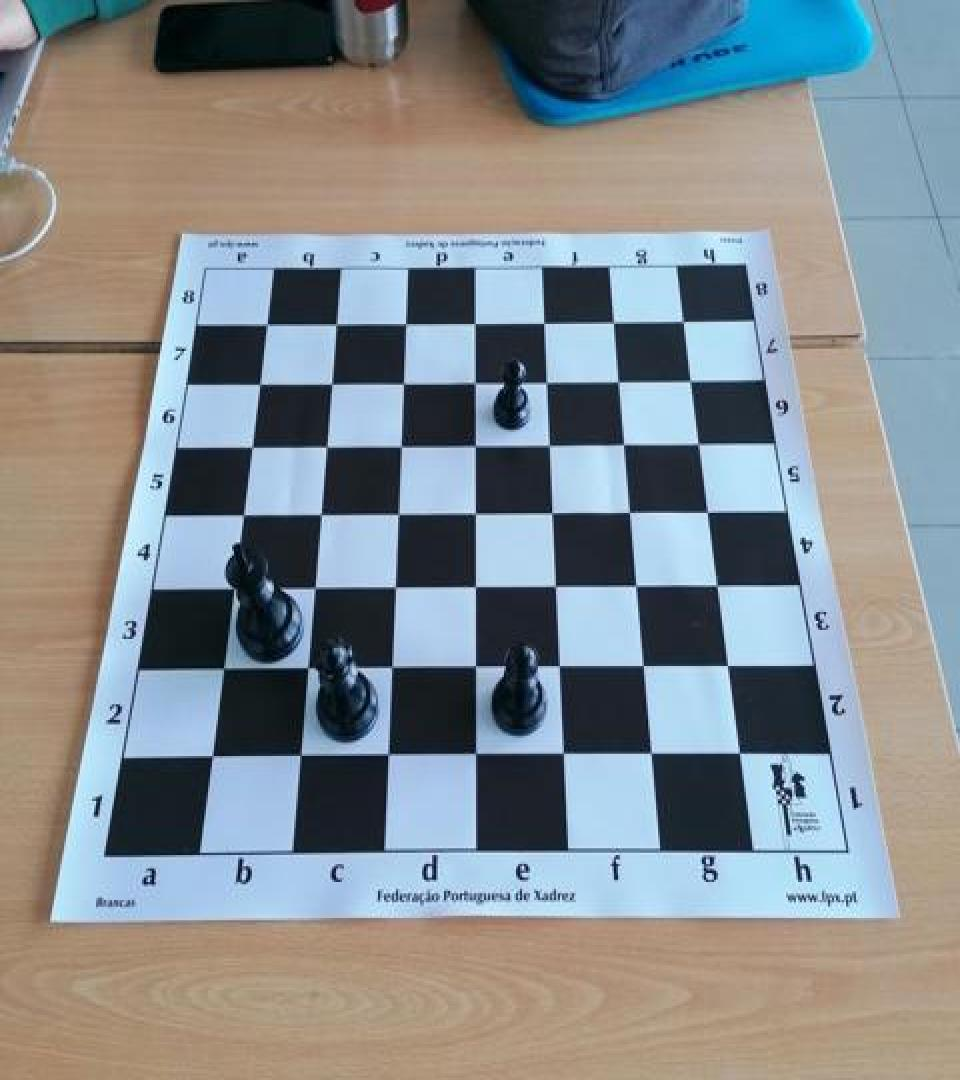xcorner: (252, 305, 282, 339), (245, 364, 275, 398), (237, 428, 267, 462), (228, 496, 258, 530), (219, 570, 249, 604), (208, 651, 238, 685), (197, 740, 227, 774), (322, 305, 352, 339), (317, 364, 347, 398), (311, 428, 341, 462), (306, 496, 336, 530), (300, 570, 330, 604), (293, 651, 323, 685), (286, 739, 316, 773), (391, 305, 421, 339), (389, 364, 419, 398), (386, 428, 416, 462), (383, 496, 413, 530), (381, 570, 411, 604), (377, 651, 407, 685), (374, 739, 404, 773), (460, 305, 490, 339), (460, 364, 490, 398), (461, 428, 491, 462), (461, 496, 491, 530), (461, 570, 491, 604), (462, 650, 492, 684), (462, 738, 492, 772), (529, 305, 559, 339), (532, 364, 562, 398), (535, 428, 565, 462), (538, 496, 568, 530), (542, 569, 572, 603), (546, 650, 576, 684), (550, 738, 580, 772), (598, 305, 628, 339), (604, 363, 634, 397), (610, 428, 640, 462), (616, 495, 646, 529), (623, 569, 653, 603), (630, 650, 660, 684), (638, 738, 668, 772), (667, 305, 697, 339), (675, 363, 705, 397), (684, 428, 714, 462), (693, 495, 723, 529), (703, 569, 733, 603), (714, 649, 744, 683), (726, 737, 756, 771)
